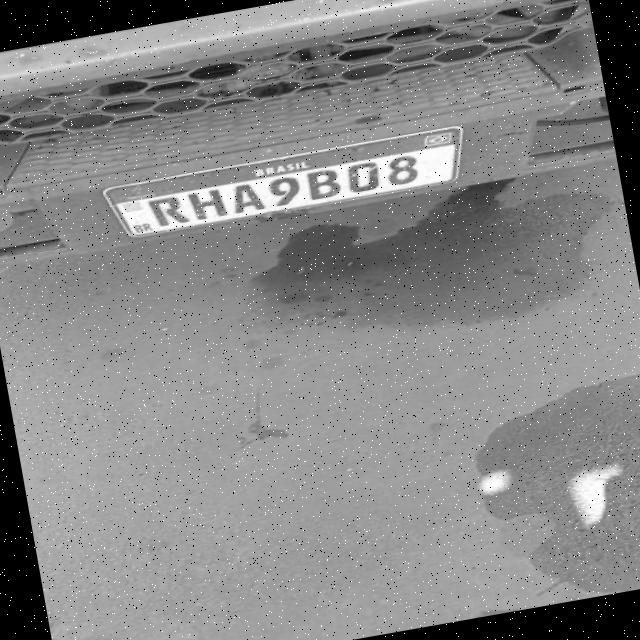placa_mercosul: (103, 125, 463, 237)
